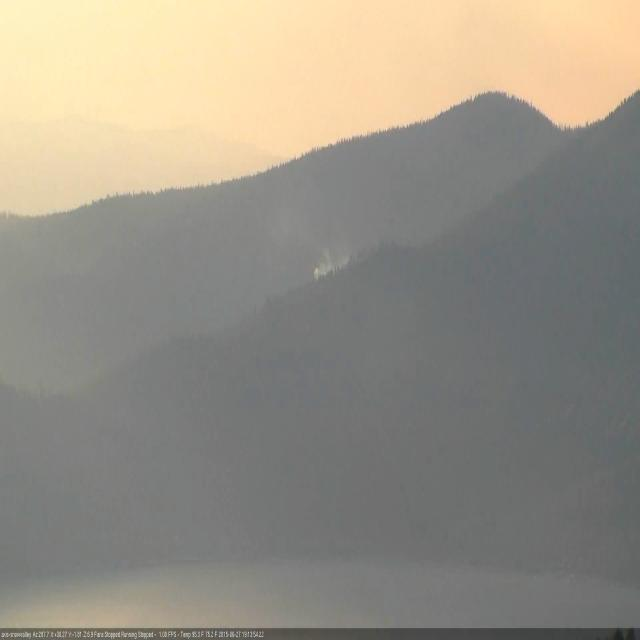smoke: (314, 252, 349, 282)
